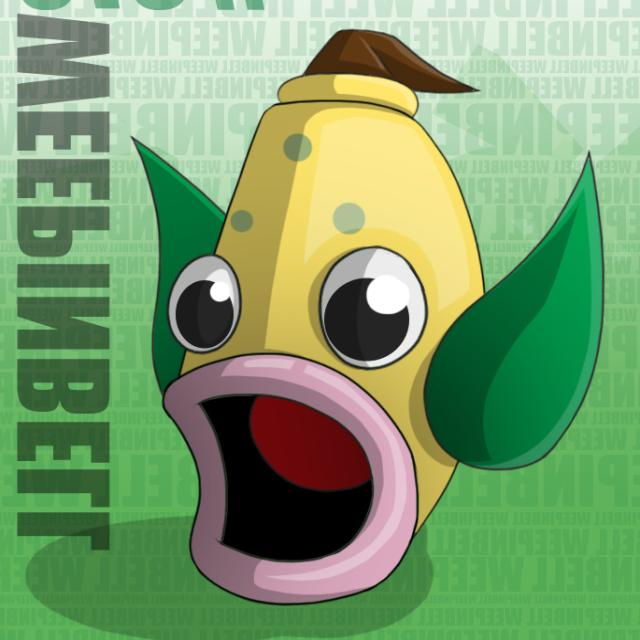Weepinbell: (137, 28, 510, 608)
